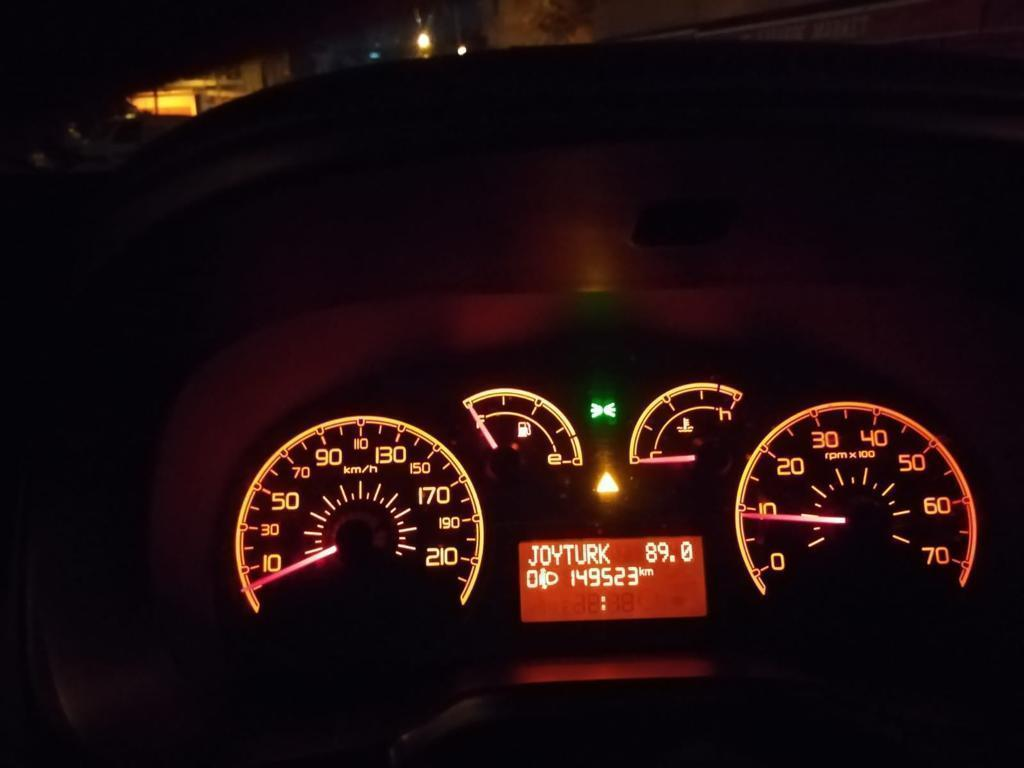,: (669, 554, 675, 563)
0: (679, 540, 693, 562), (539, 544, 550, 566), (526, 569, 537, 588)
1: (569, 568, 575, 587)
2: (613, 566, 625, 586)
3: (626, 566, 638, 586)
4: (575, 568, 587, 587)
5: (600, 567, 613, 586)
8: (644, 541, 657, 563)
9: (657, 542, 669, 563), (588, 567, 600, 587)
X: (573, 543, 586, 565), (598, 542, 611, 564), (586, 543, 598, 565), (562, 544, 574, 565), (550, 544, 562, 565), (527, 545, 539, 566), (599, 594, 606, 611), (638, 566, 645, 576), (645, 568, 653, 576)
odometer: (514, 533, 712, 624)
